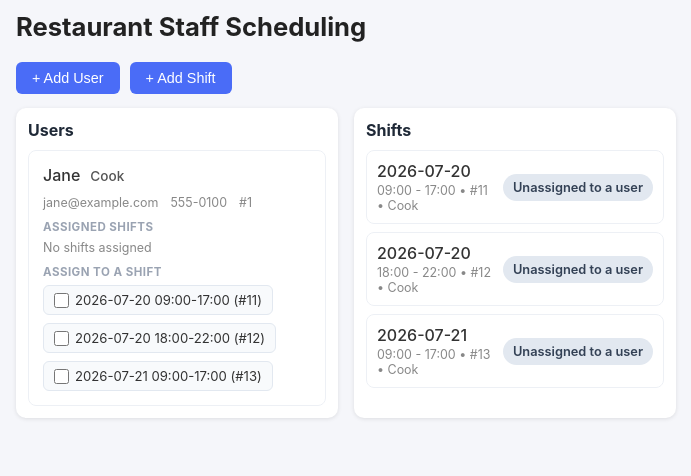
Test: same-day shift assignment conflicts › unassigning a shift frees up its day for a previously conflicting shift
The image size is (691, 476).
Expected: the text "Jane" is shown, left=43, top=165, right=80, bottom=185
Click the checkbox labelled "2026-07-20 09:00-17:00 (#11)": (62, 300) left=54, top=292, right=69, bottom=308
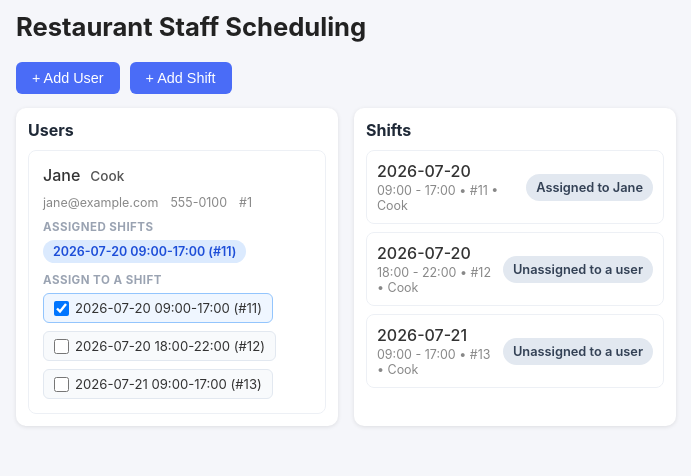
Click the checkbox labelled "2026-07-20 18:00-22:00 (#12)": (62, 346) left=54, top=338, right=69, bottom=354
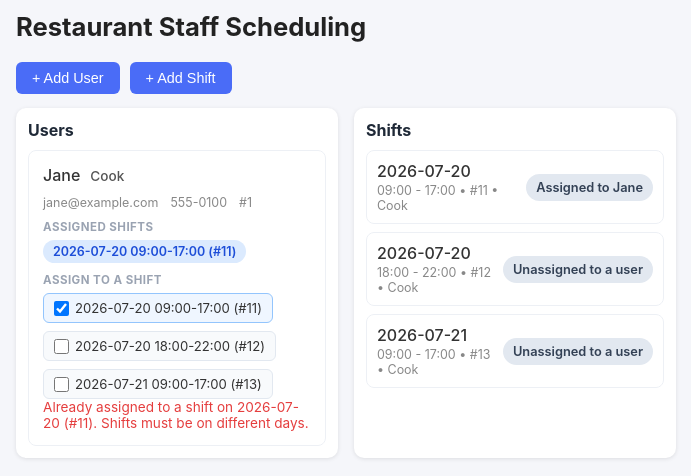
Click the checkbox labelled "2026-07-20 09:00-17:00 (#11)": (62, 308) left=54, top=300, right=69, bottom=316
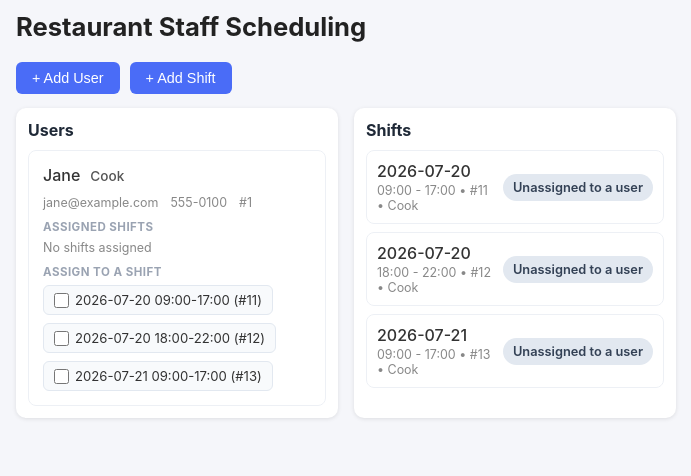
Result: the checkbox labelled "2026-07-20 09:00-17:00 (#11)" is not checked at left=54, top=292, right=69, bottom=308
Click the checkbox labelled "2026-07-20 18:00-22:00 (#12)": (62, 338) left=54, top=330, right=69, bottom=346
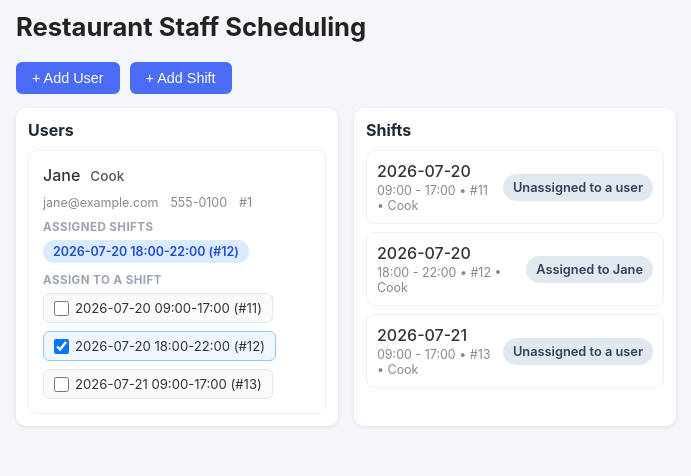
Result: the checkbox labelled "2026-07-20 18:00-22:00 (#12)" is checked at left=54, top=338, right=69, bottom=354
Result: the text "2026-07-20 18:00-22:00 (#12)" is shown at left=43, top=240, right=249, bottom=263
